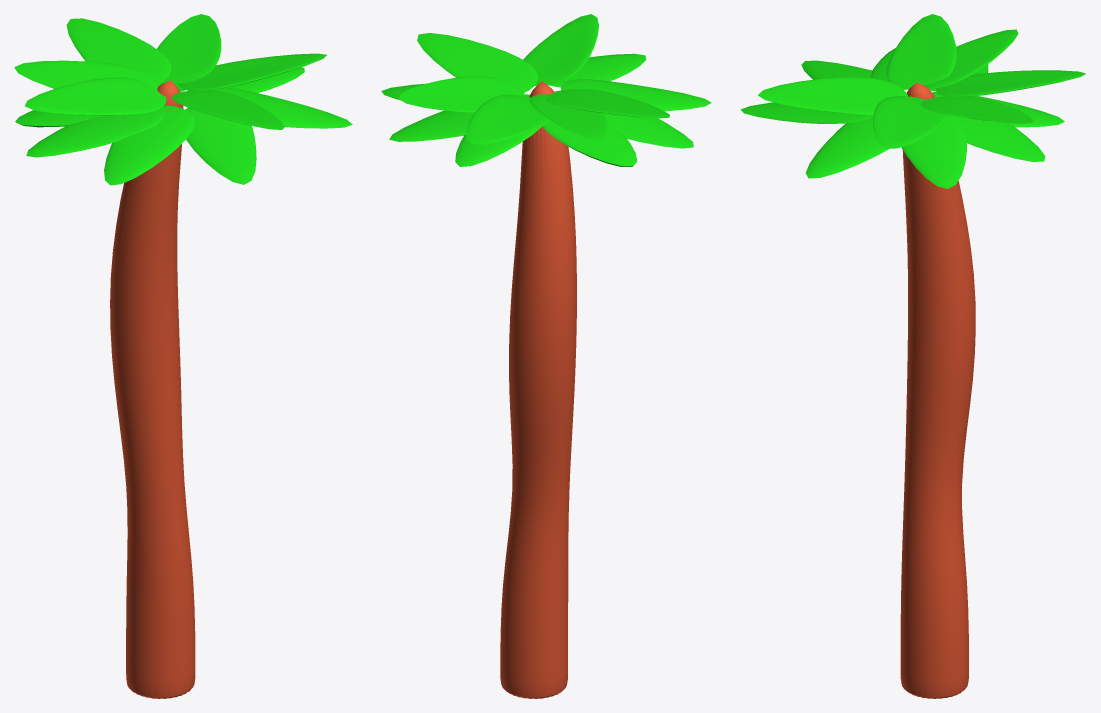
File: palm_tree.glb
3 renders of one model, left to right at view 1: azimuth 30°, elevation 25°; view 2: azimuth 150°, elevation 25°; view 3: azimuth 270°, elevation 25°, orthographic. The views are drawn at different scales.
Parts seen in each view (by area): view 1: Cylinder; view 2: Cylinder; view 3: Cylinder.
Part boxes in pixels (x1=…): Cylinder: x1=14, y1=14, x2=352, y2=698; Cylinder: x1=381, y1=14, x2=711, y2=698; Cylinder: x1=740, y1=14, x2=1085, y2=698.
Bounding box in the file's own units: 11.86 × 23.36 × 12.05.
